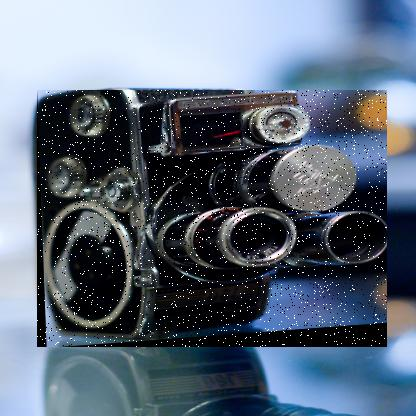Camera: (38, 91, 389, 349)
